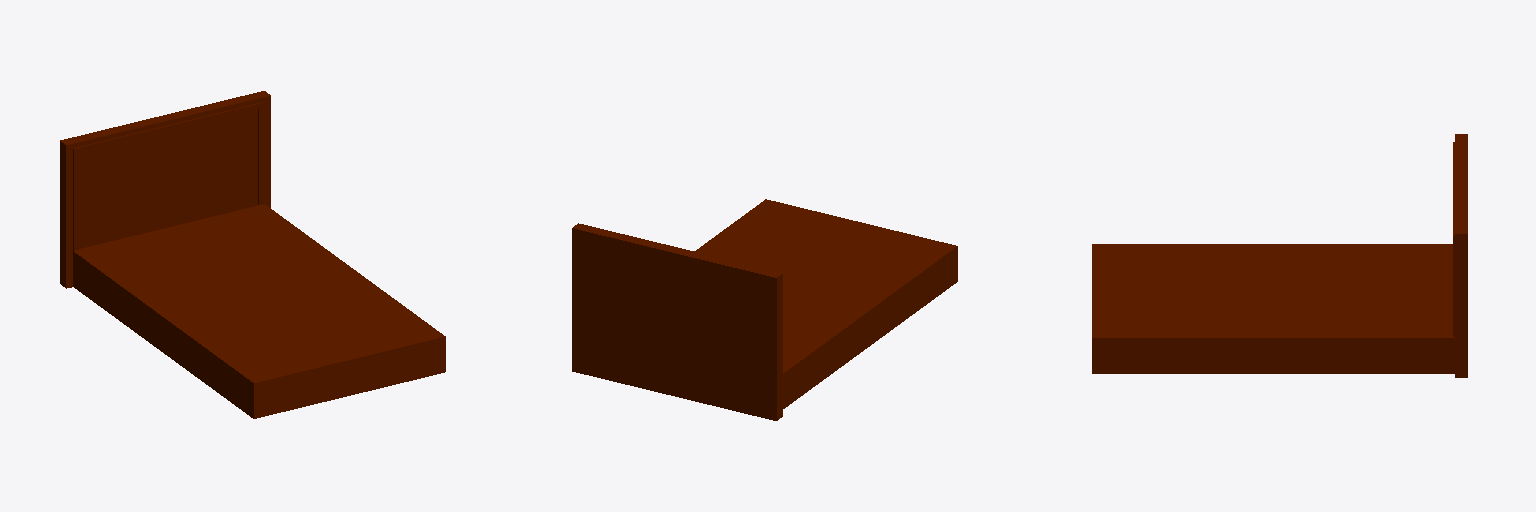
File: Bedframe.obj
3 renders of one model, left to right at view 1: azimuth 30°, elevation 25°; view 2: azimuth 150°, elevation 25°; view 3: azimuth 270°, elevation 25°, orthographic.
Visible parts, largest first — view 1: Cube.001_Cube, Cube.002; view 2: Cube.002, Cube.001_Cube; view 3: Cube.001_Cube, Cube.002.
Part boxes in pixels (x1,y1,x2,y2): Cube.001_Cube: (73,204,445,418); Cube.002: (60,91,270,288); Cube.002: (572,223,782,420); Cube.001_Cube: (694,199,957,408); Cube.001_Cube: (1092,244,1454,373); Cube.002: (1453,134,1467,377).
Size of the model in its own units: 4.75 by 3.17 by 7.53.